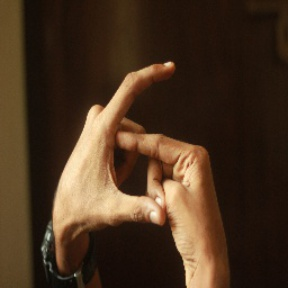E: (90, 49, 191, 230)
